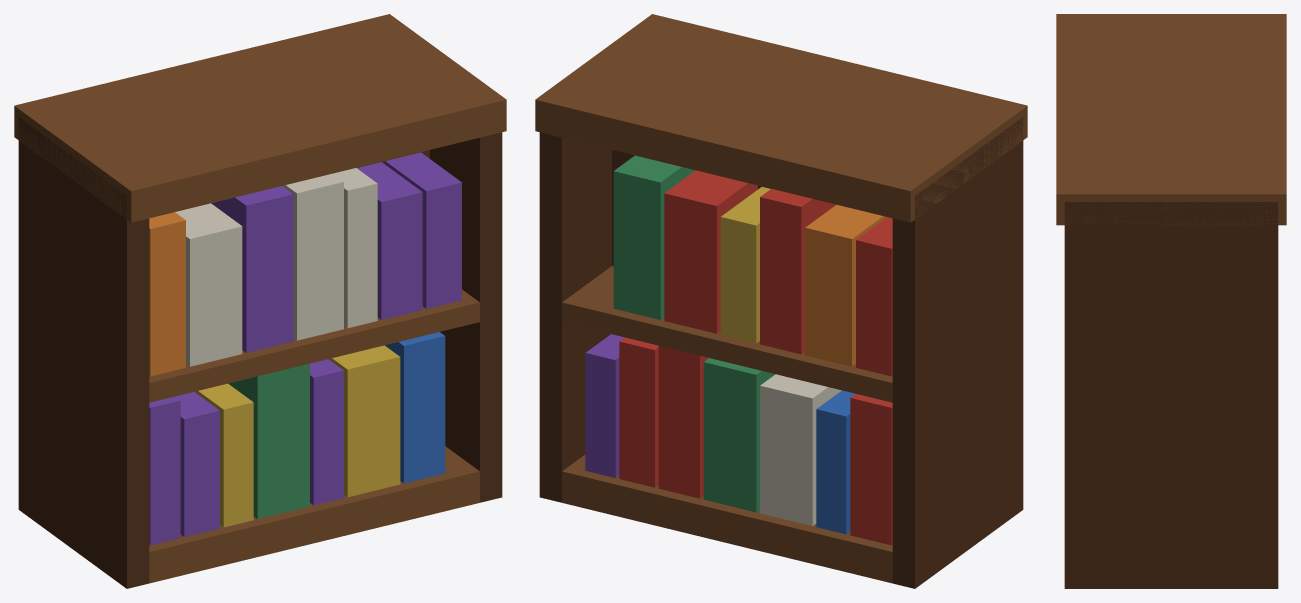
The model's file is tv-shelf-low.glb.
3 views of the same model, side by side, from view 1: azimuth 30°, elevation 25°; view 2: azimuth 150°, elevation 25°; view 3: azimuth 270°, elevation 25° (orthographic).
Visible parts, largest first — view 1: box-prop; view 2: box-prop; view 3: box-prop.
Boxes of the visible parts, x1=… form: box-prop: x1=14, y1=14, x2=506, y2=588; box-prop: x1=535, y1=14, x2=1027, y2=588; box-prop: x1=1056, y1=14, x2=1286, y2=588.
Bounding box in the file's own units: 1 × 1.02 × 0.54.
